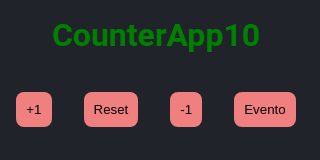
Pruebas de el <CouterApp/> › debe de decrementar con el boton -1
Click the button "-1" at (186, 109), box [170,92,202,127]
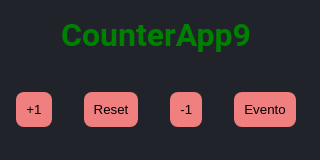
Expected: the text "9" is shown, [233,16,251,54]
